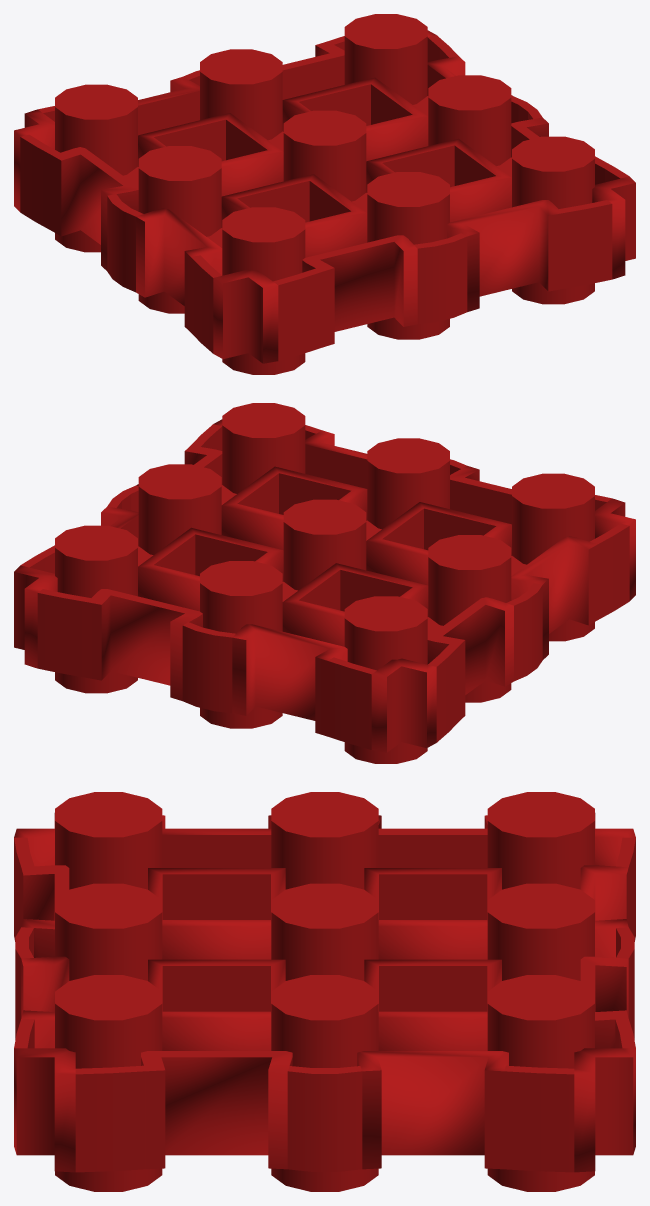
3 renders of one model, top to bottom at view 1: azimuth 30°, elevation 25°; view 2: azimuth 150°, elevation 25°; view 3: azimuth 270°, elevation 25°, orthographic. The views are drawn at different scales.
Visible parts, largest first — view 1: 3x3; view 2: 3x3; view 3: 3x3.
Boxes of the visible parts, <box> form: 3x3: <box>14,14,635,374</box>; 3x3: <box>14,403,635,763</box>; 3x3: <box>14,792,635,1191</box>.
Size of the model in its own units: 1.17 by 0.3557 by 1.17.
